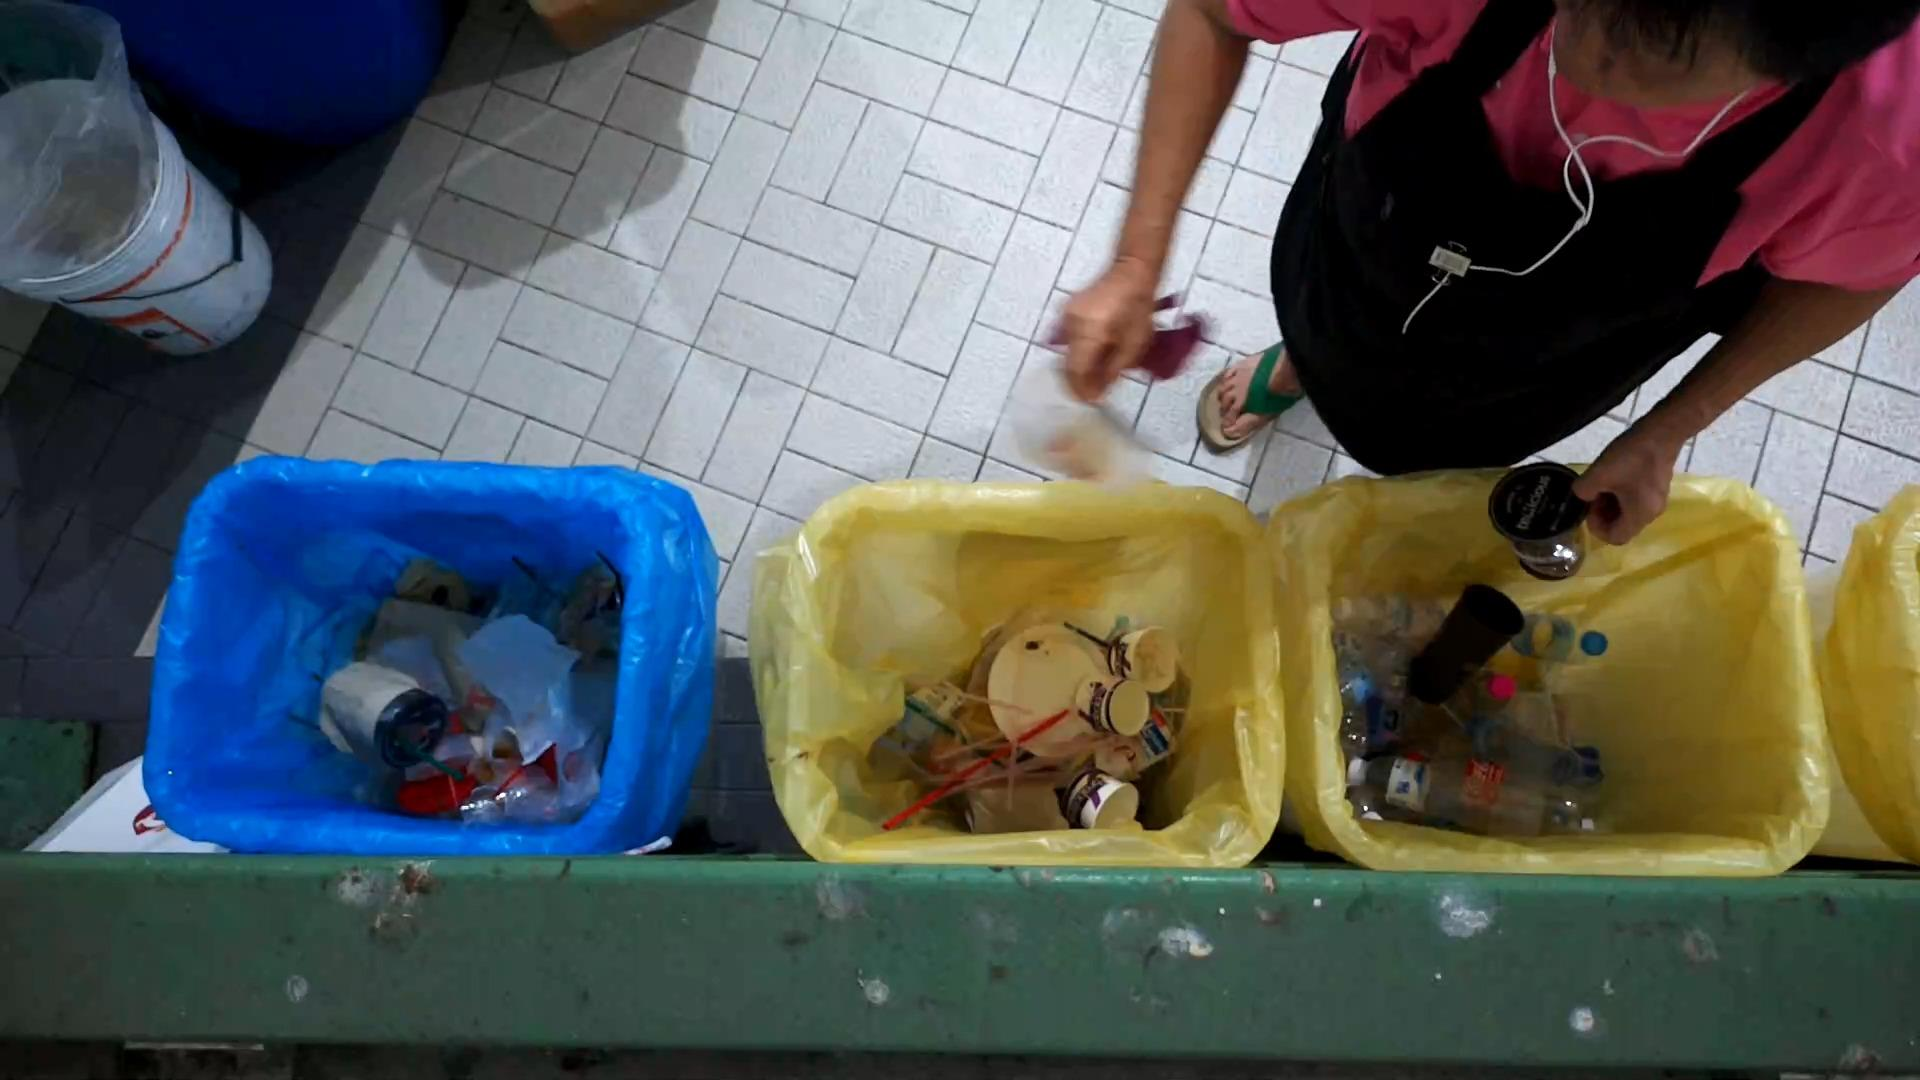food container: (993, 622, 1121, 762), (1056, 762, 1143, 835), (1083, 667, 1159, 748), (1112, 624, 1183, 698)
milk carton: (1089, 704, 1185, 785)
plastic bottle: (1350, 745, 1555, 851), (1472, 713, 1600, 806), (1505, 604, 1611, 676), (1327, 588, 1453, 642)
plastic cup: (371, 633, 484, 779), (1400, 585, 1532, 707), (1485, 459, 1596, 593), (318, 666, 443, 773)
snack packaging: (884, 670, 977, 765)
straw: (886, 705, 1071, 831), (920, 742, 1079, 796), (436, 762, 472, 815), (591, 547, 622, 603), (510, 553, 543, 587)
tissue paper: (451, 612, 597, 749), (1065, 737, 1131, 778)
